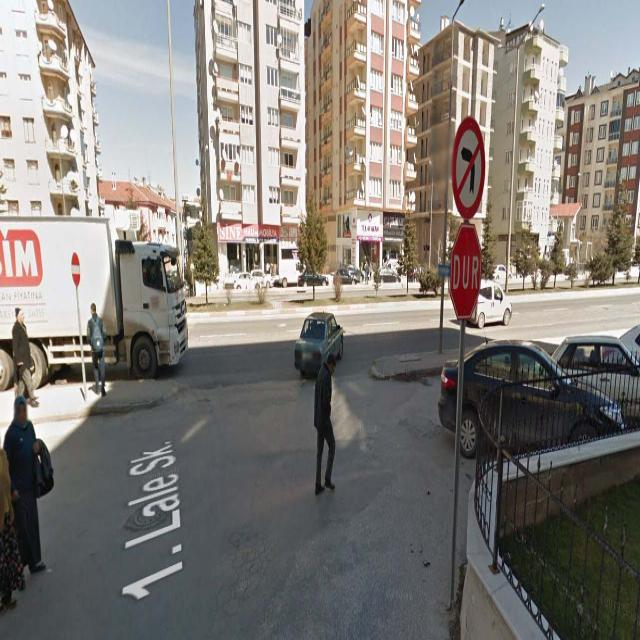dur: (450, 222, 480, 320)
girisyok: (71, 252, 80, 286)
soladonulmez: (453, 116, 484, 220)
